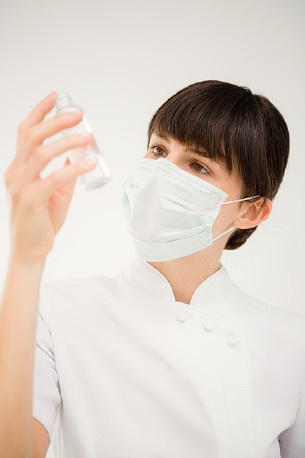Mask: (123, 123, 260, 260)
